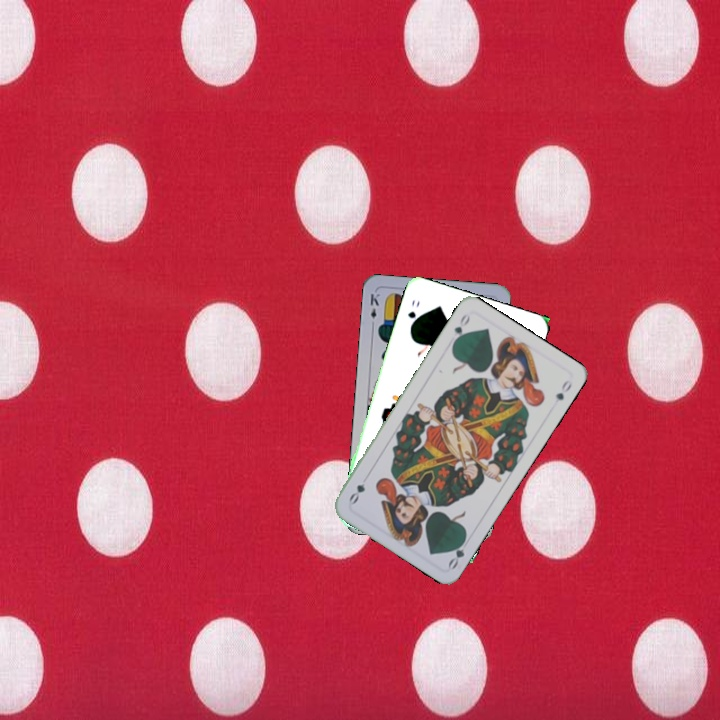EK: (366, 289, 382, 330)
GO: (444, 532, 473, 572), (449, 310, 473, 348), (404, 296, 422, 332)
